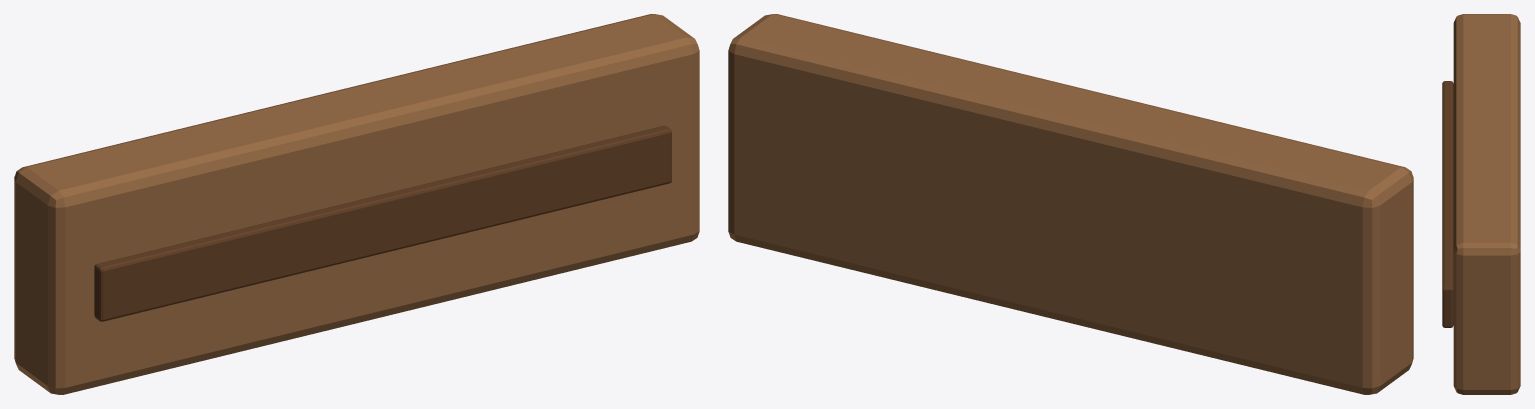
File: lintel_2x0p6.glb
The picture shows the model from 3 angles, left to right: view 1: azimuth 30°, elevation 25°; view 2: azimuth 150°, elevation 25°; view 3: azimuth 270°, elevation 25°; orthographic projection. The views are drawn at different scales.
Parts seen in each view (by area): view 1: lintel_body, lintel_face_band; view 2: lintel_body; view 3: lintel_body, lintel_face_band.
Boxes of the visible parts, x1,y1,x2,y2 form: lintel_body: (14, 14, 699, 394); lintel_face_band: (94, 125, 671, 321); lintel_body: (728, 14, 1413, 394); lintel_body: (1453, 14, 1520, 394); lintel_face_band: (1442, 81, 1453, 327).
Bounding box in the file's own units: 2 × 0.6 × 0.28.
